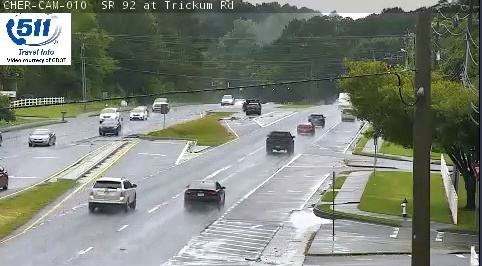car: (88, 177, 136, 204), (185, 180, 225, 207), (266, 132, 293, 152), (307, 113, 325, 127), (297, 122, 314, 135)
